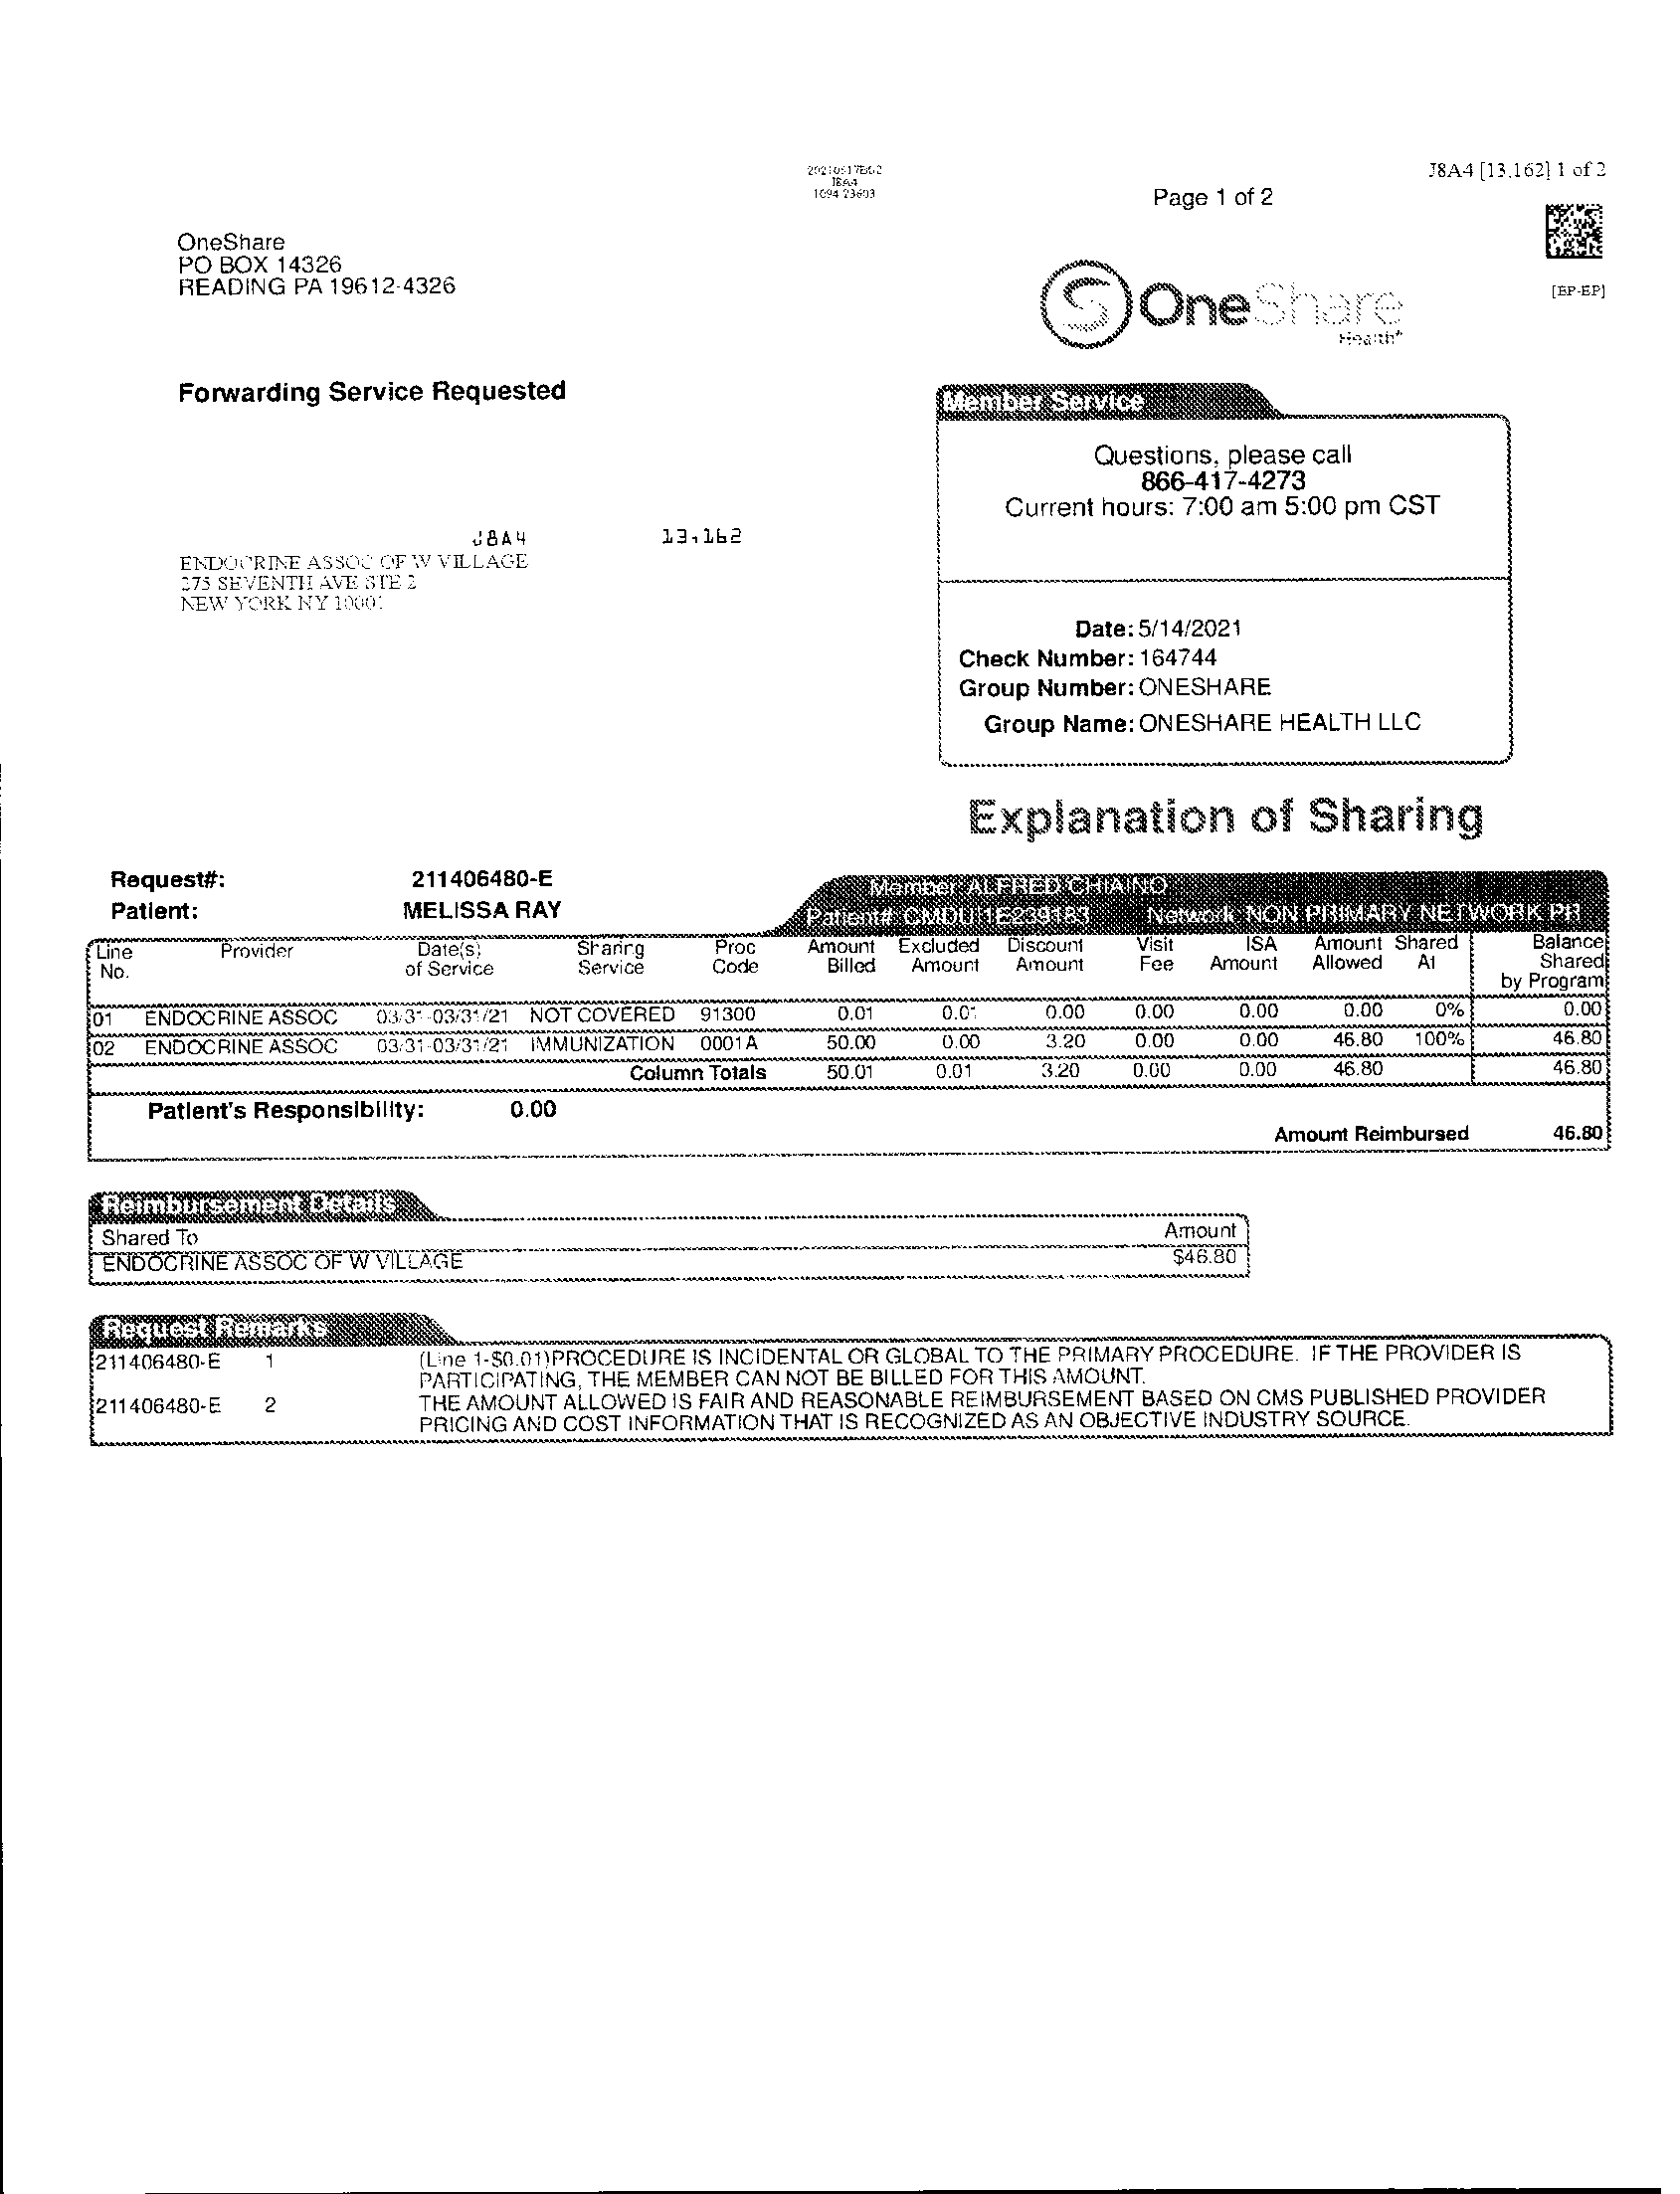data: (934, 369, 1519, 780), (101, 862, 582, 922)
table: (71, 935, 1620, 1171)
